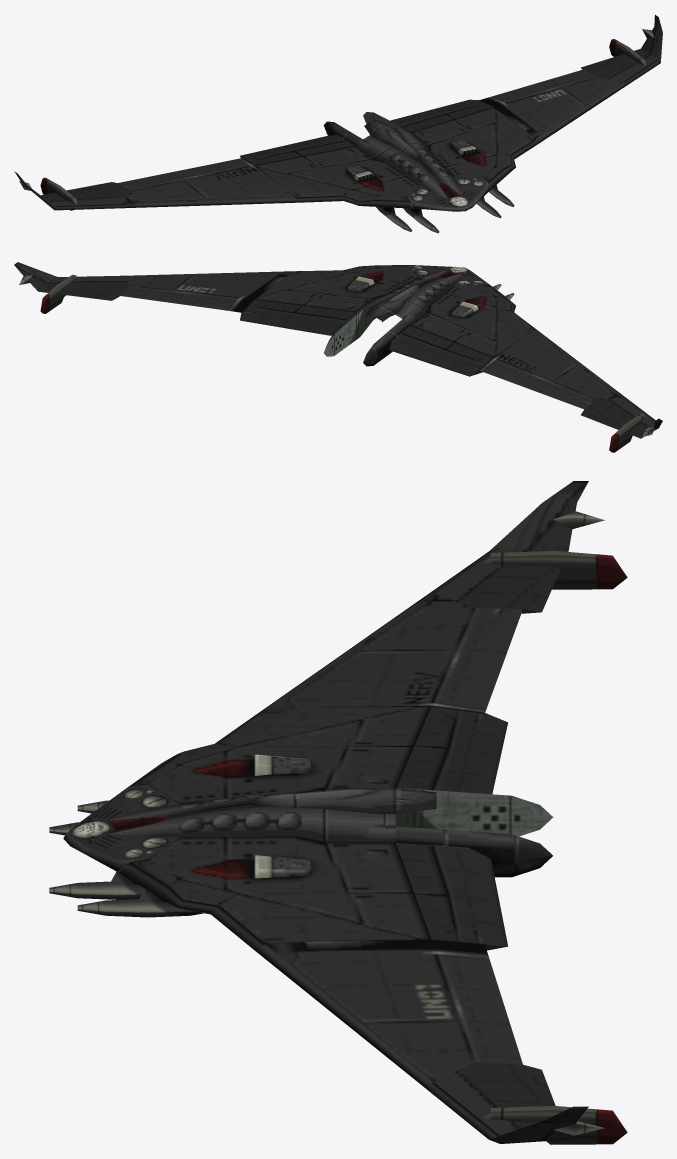
File: AerocarrierV2.fbx
3 renders of one model, top to bottom at view 1: azimuth 30°, elevation 25°; view 2: azimuth 150°, elevation 25°; view 3: azimuth 270°, elevation 25°, orthographic. The views are drawn at different scales.
Parts seen in each view (by area): view 1: Eva_Aerocarrier; view 2: Eva_Aerocarrier; view 3: Eva_Aerocarrier.
Part boxes in pixels (left/top/right/bottom): Eva_Aerocarrier: left=14, top=15, right=662, bottom=233; Eva_Aerocarrier: left=14, top=262, right=662, bottom=452; Eva_Aerocarrier: left=49, top=481, right=627, bottom=1144.
Bounding box in the file's own units: 32.51 × 1.94 × 12.7.
